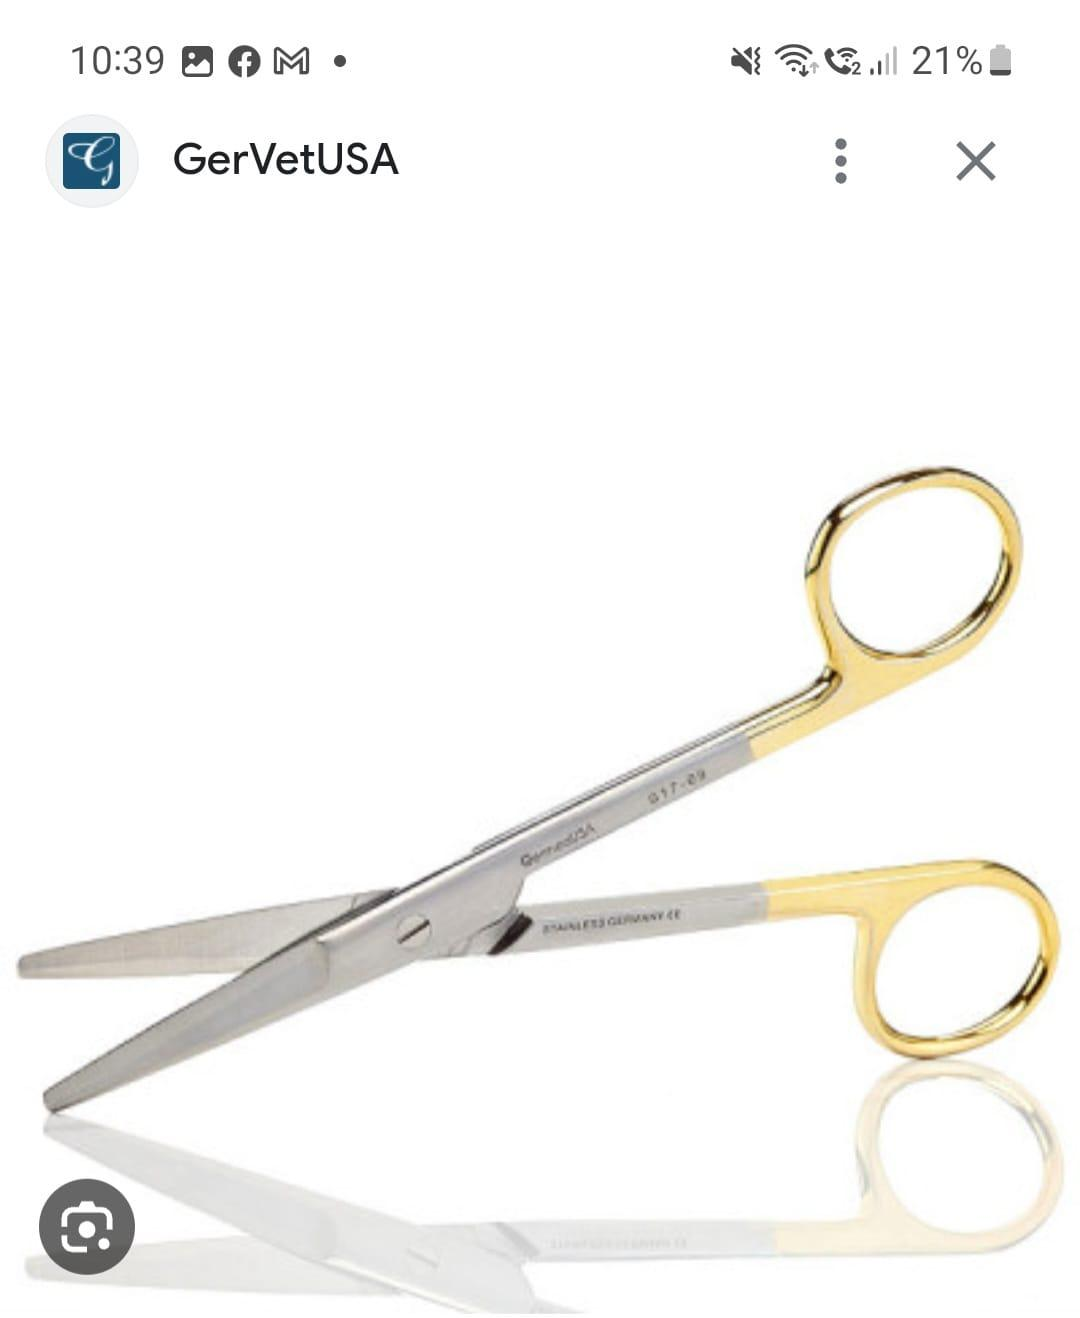Straight Mayo: (10, 460, 1054, 1126)
